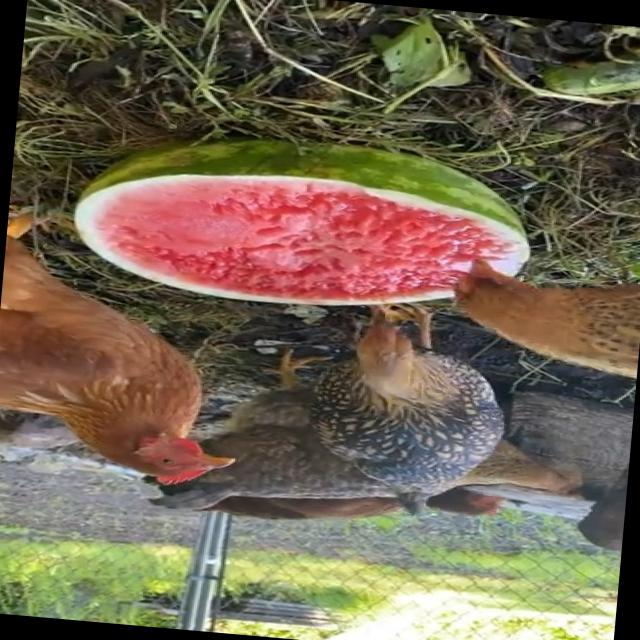feeding: (269, 291, 542, 519), (0, 240, 247, 486), (495, 278, 640, 372)
